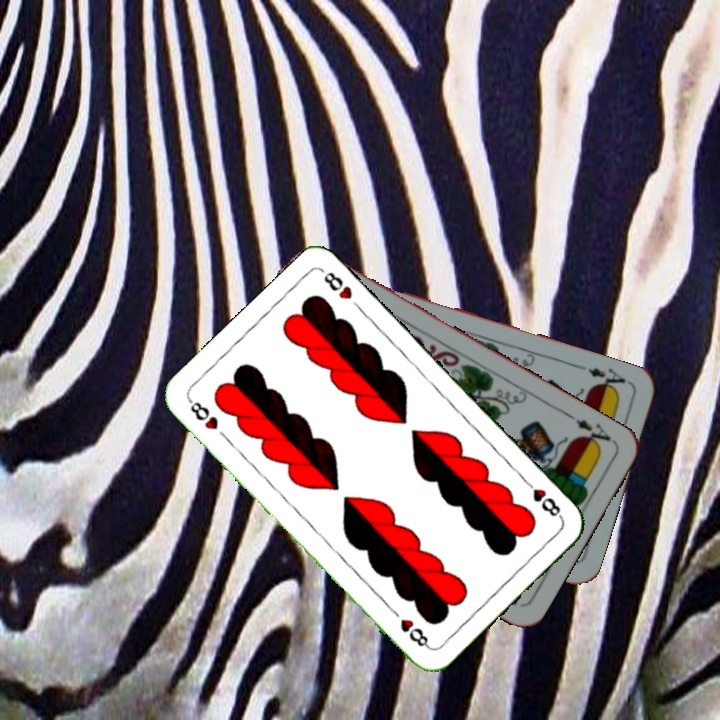EA: (563, 409, 616, 451), (583, 363, 634, 395)
H8: (520, 475, 566, 522), (184, 395, 221, 432)
